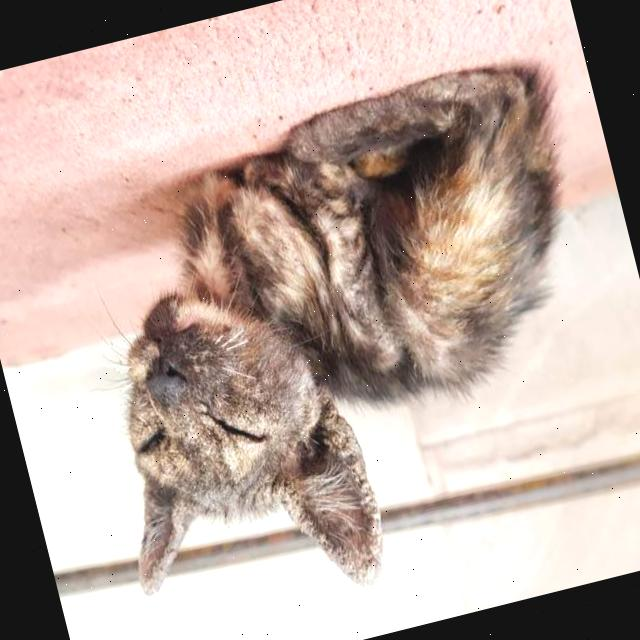cat-hairloss: (261, 206, 368, 314)
cat-scabies: (285, 413, 387, 585)
